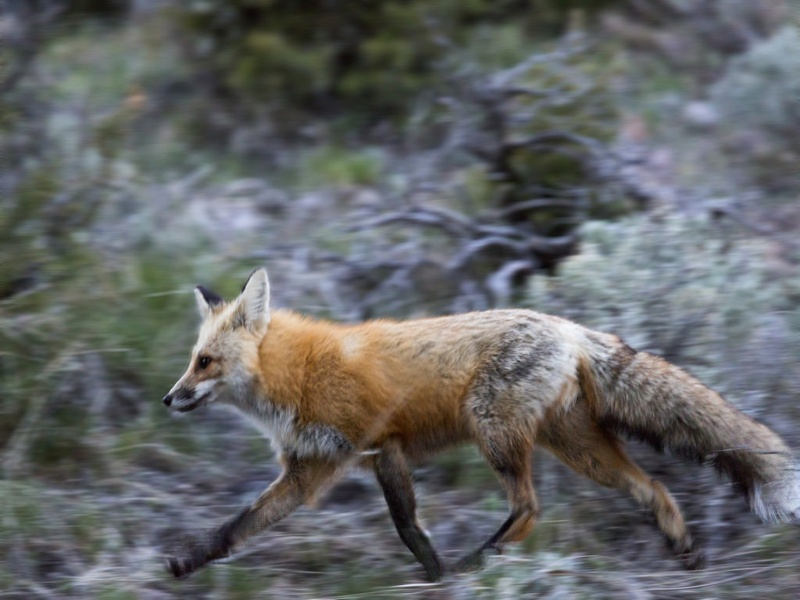fox: (165, 266, 797, 593)
